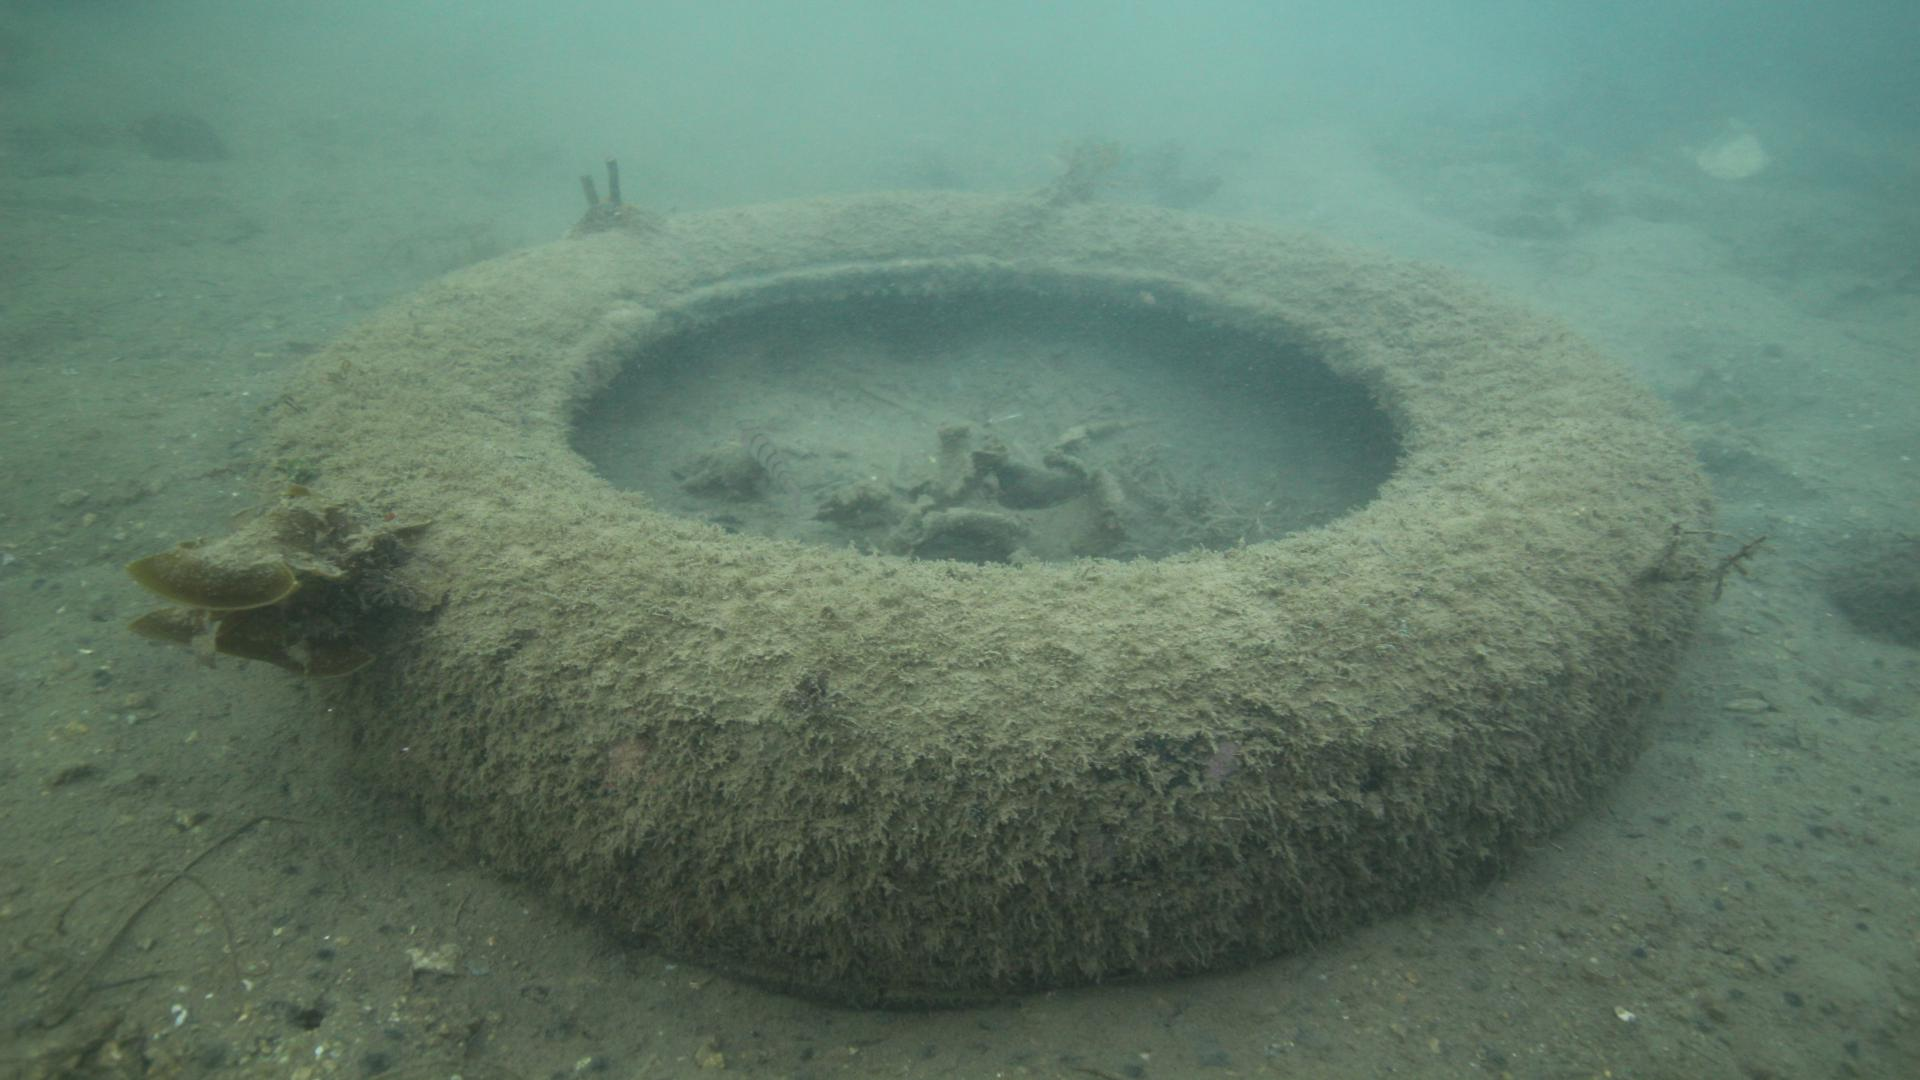tire: (265, 191, 1709, 1004)
